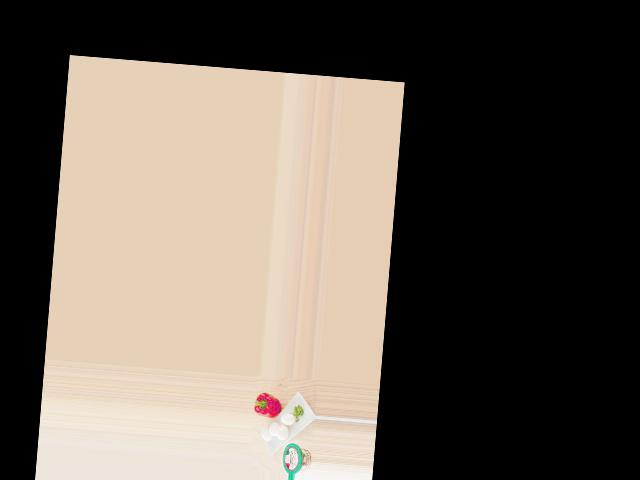bell_pepper: (253, 390, 282, 422)
